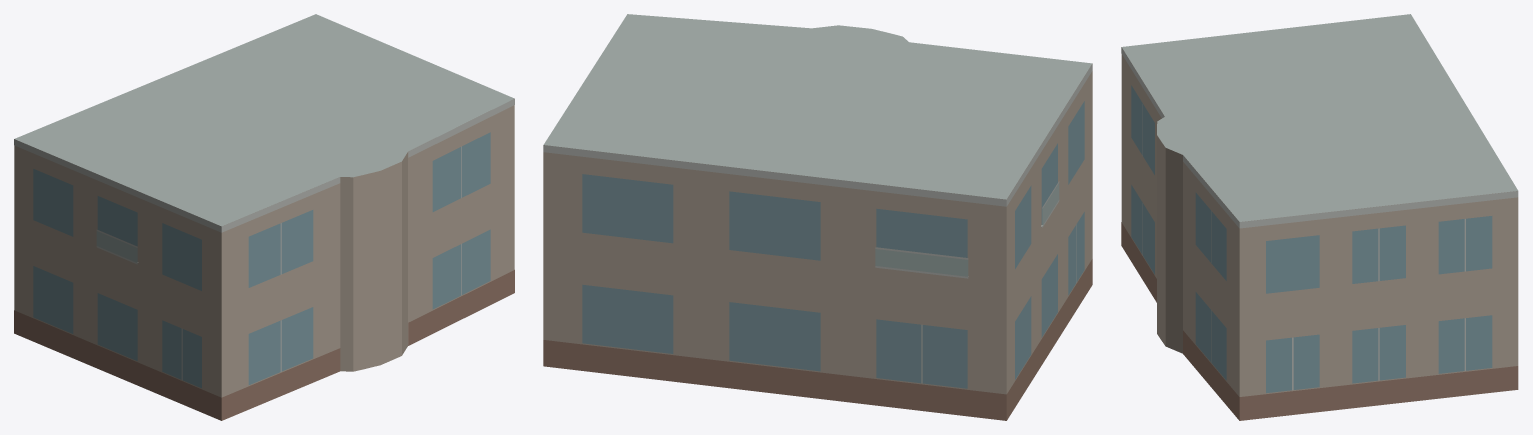
Rendered from survey-upis-32623839.glb.
The picture shows the model from 3 angles, left to right: view 1: azimuth 30°, elevation 25°; view 2: azimuth 150°, elevation 25°; view 3: azimuth 270°, elevation 25°; orthographic projection. The views are drawn at different scales.
Visible parts, largest first — view 1: survey-upis-32623839.tmp; view 2: survey-upis-32623839.tmp; view 3: survey-upis-32623839.tmp.
Boxes of the visible parts, box(x1,y1,x2,y2) form: survey-upis-32623839.tmp: box(14, 14, 514, 420); survey-upis-32623839.tmp: box(543, 14, 1092, 420); survey-upis-32623839.tmp: box(1121, 14, 1518, 420).
Size of the model in its own units: 16.84 by 7.5 by 13.58.
